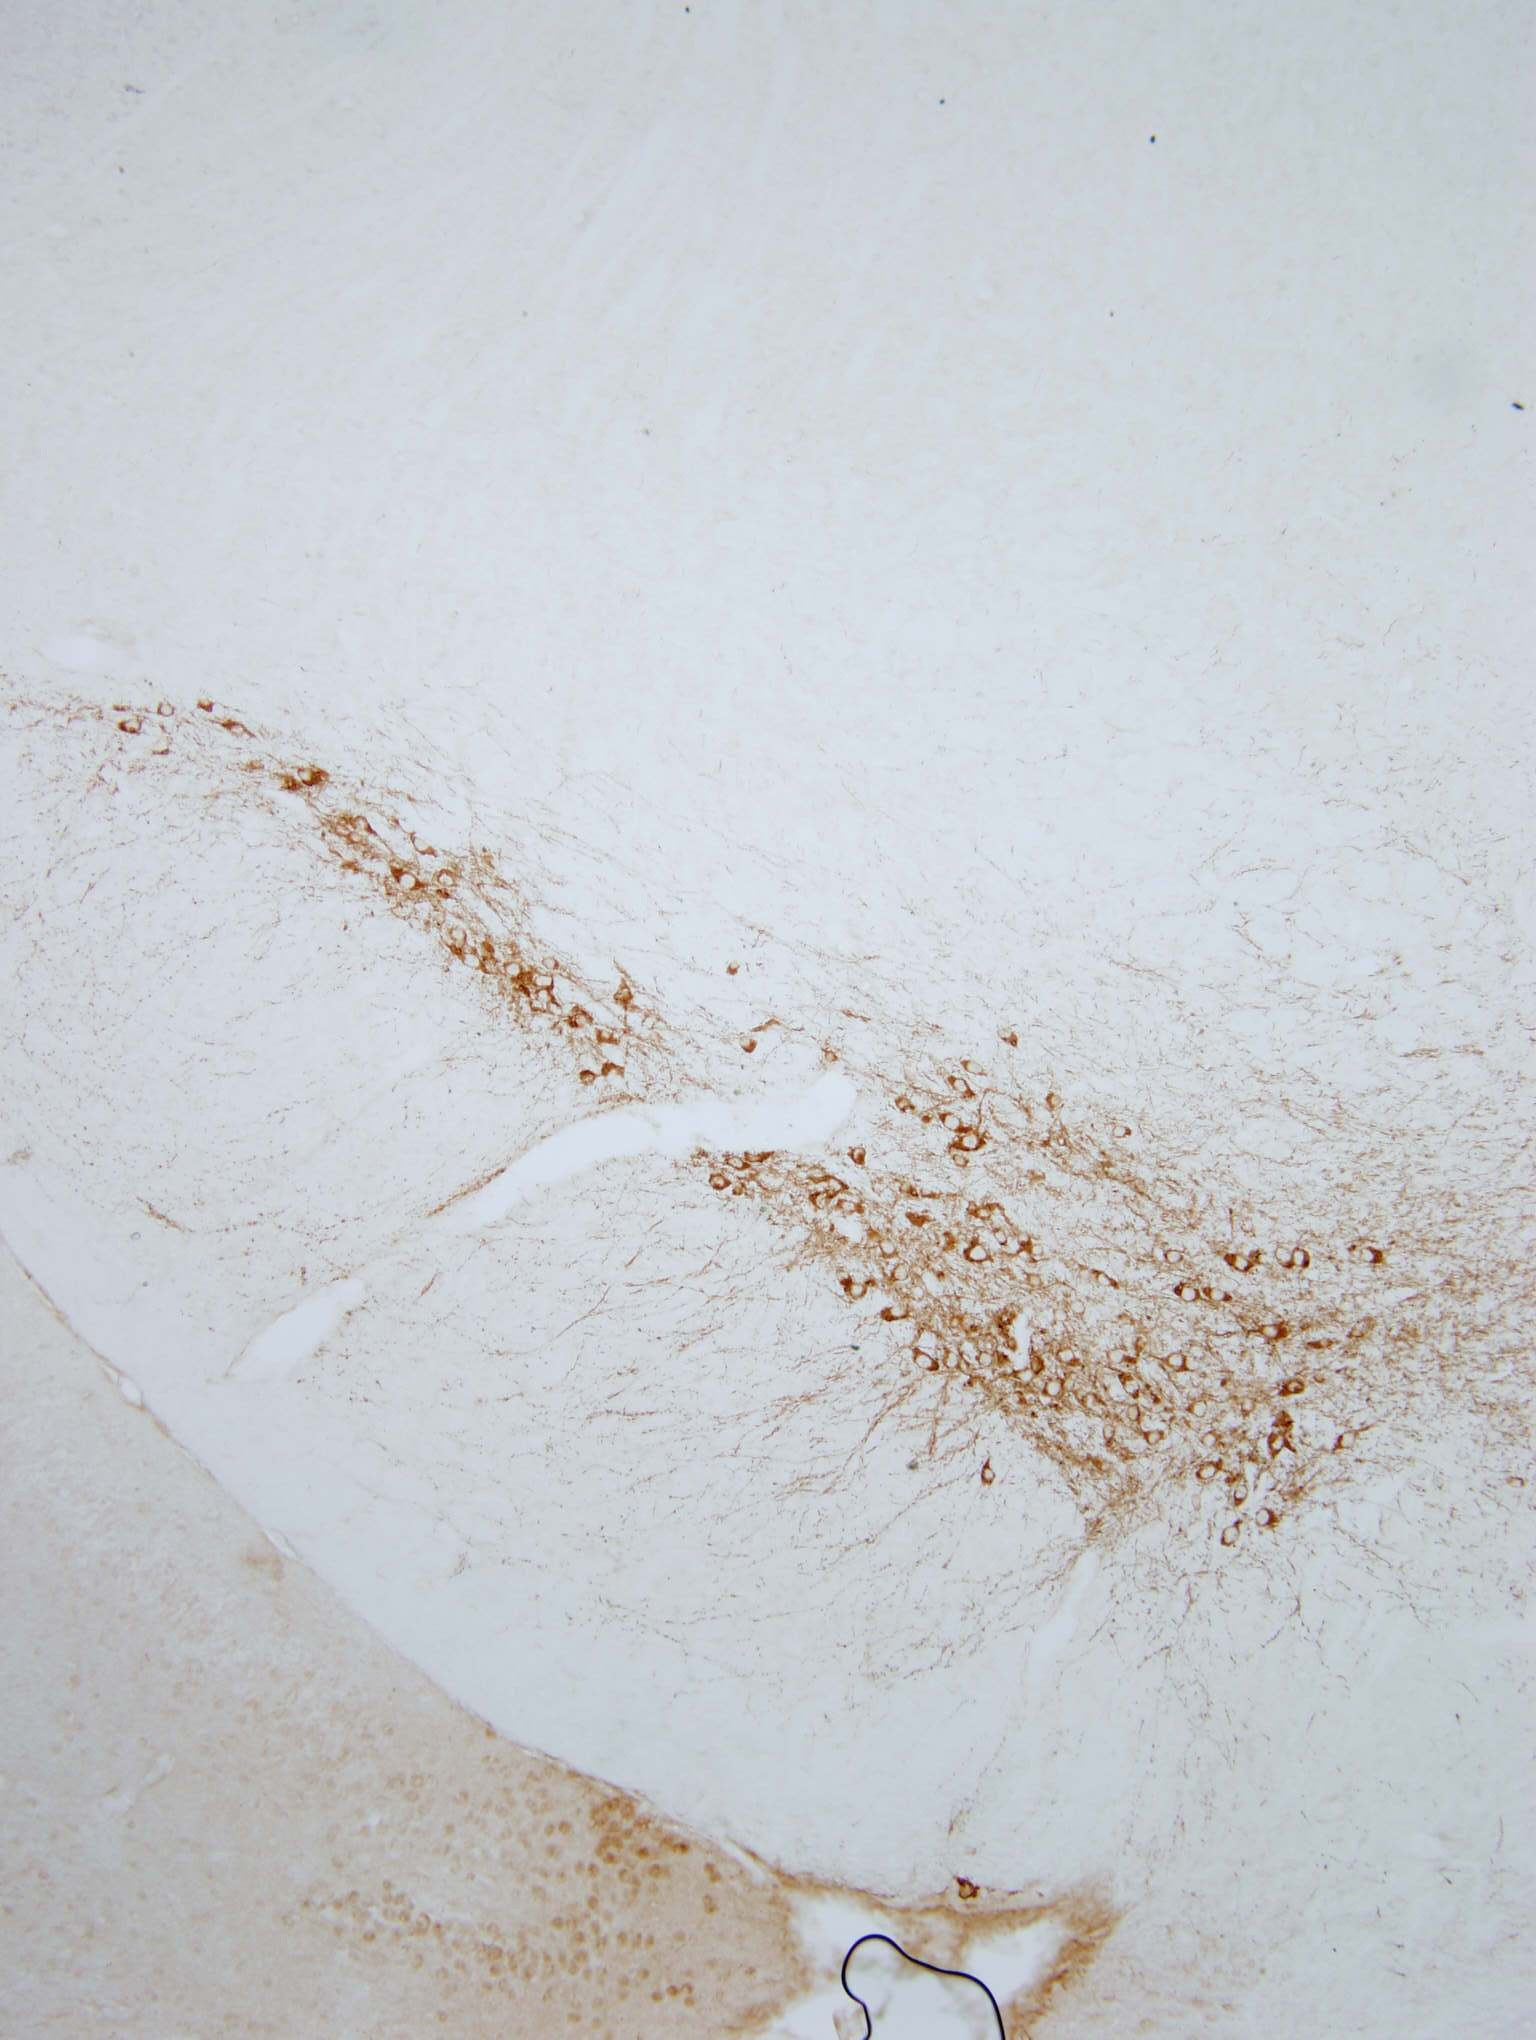neuron: (1171, 1277, 1208, 1314), (1184, 1392, 1221, 1429), (1254, 1313, 1291, 1350), (407, 827, 444, 864), (1002, 1359, 1037, 1397), (1034, 1371, 1071, 1406), (1089, 1259, 1125, 1297), (1092, 1414, 1128, 1451), (1158, 1343, 1196, 1379), (1192, 1421, 1229, 1456), (1199, 1277, 1234, 1314), (1217, 1518, 1252, 1555), (1254, 1505, 1291, 1540), (1263, 1239, 1300, 1274), (1263, 1429, 1300, 1464), (1354, 1242, 1391, 1277), (223, 710, 258, 747), (429, 860, 465, 897), (563, 1001, 599, 1039), (820, 1164, 855, 1201), (871, 1227, 907, 1264), (879, 1297, 915, 1334), (883, 1258, 920, 1293), (887, 1085, 923, 1122), (908, 1343, 944, 1380), (933, 1101, 970, 1137), (937, 1342, 975, 1377), (958, 1047, 994, 1084), (971, 1459, 1008, 1495), (1052, 1335, 1087, 1371), (1105, 1114, 1141, 1150), (1115, 1369, 1150, 1405), (1120, 1397, 1155, 1432), (1139, 1421, 1175, 1456), (1162, 1240, 1197, 1276), (116, 710, 152, 745), (1192, 1455, 1228, 1490), (1225, 1474, 1260, 1509), (1226, 1247, 1262, 1282), (1278, 1371, 1313, 1406), (1286, 1242, 1321, 1277), (1304, 1327, 1339, 1363), (1334, 1419, 1370, 1455), (295, 758, 331, 793), (392, 868, 428, 903), (453, 942, 489, 977), (497, 950, 532, 985), (591, 1019, 626, 1055), (703, 1168, 739, 1203), (720, 1145, 755, 1180), (803, 1187, 839, 1222), (836, 1192, 871, 1227), (842, 1271, 878, 1306), (844, 1137, 879, 1172), (945, 1074, 981, 1110), (957, 1126, 992, 1161), (957, 1877, 992, 1913), (960, 1237, 995, 1272), (1015, 1230, 1039, 1255), (345, 827, 369, 851), (352, 811, 376, 835), (449, 921, 473, 945), (536, 984, 560, 1008), (539, 951, 563, 976), (971, 1200, 995, 1224), (975, 1347, 999, 1371), (991, 1198, 1015, 1222), (991, 1227, 1013, 1251)
